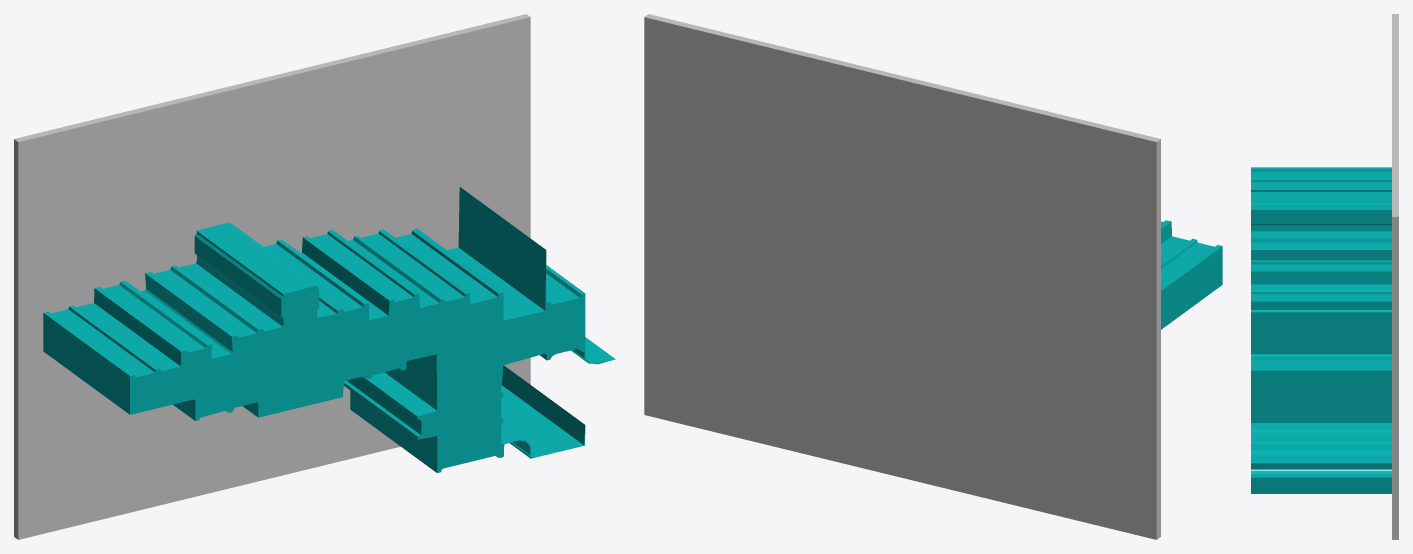
3 renders of one model, left to right at view 1: azimuth 30°, elevation 25°; view 2: azimuth 150°, elevation 25°; view 3: azimuth 270°, elevation 25°, orthographic. The views are drawn at different scales.
Parts seen in each view (by area): view 1: world; view 2: world; view 3: world.
Boxes of the visible parts, left/top/right/bottom form: world: left=14, top=14, right=615, bottom=539; world: left=644, top=14, right=1222, bottom=539; world: left=1251, top=14, right=1398, bottom=539.
Size of the model in its own units: 10.23 by 7.59 by 3.15.
